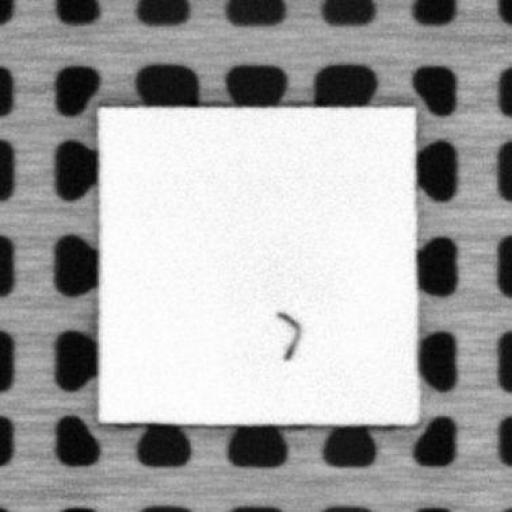DIE_INK: (276, 309, 302, 361)
